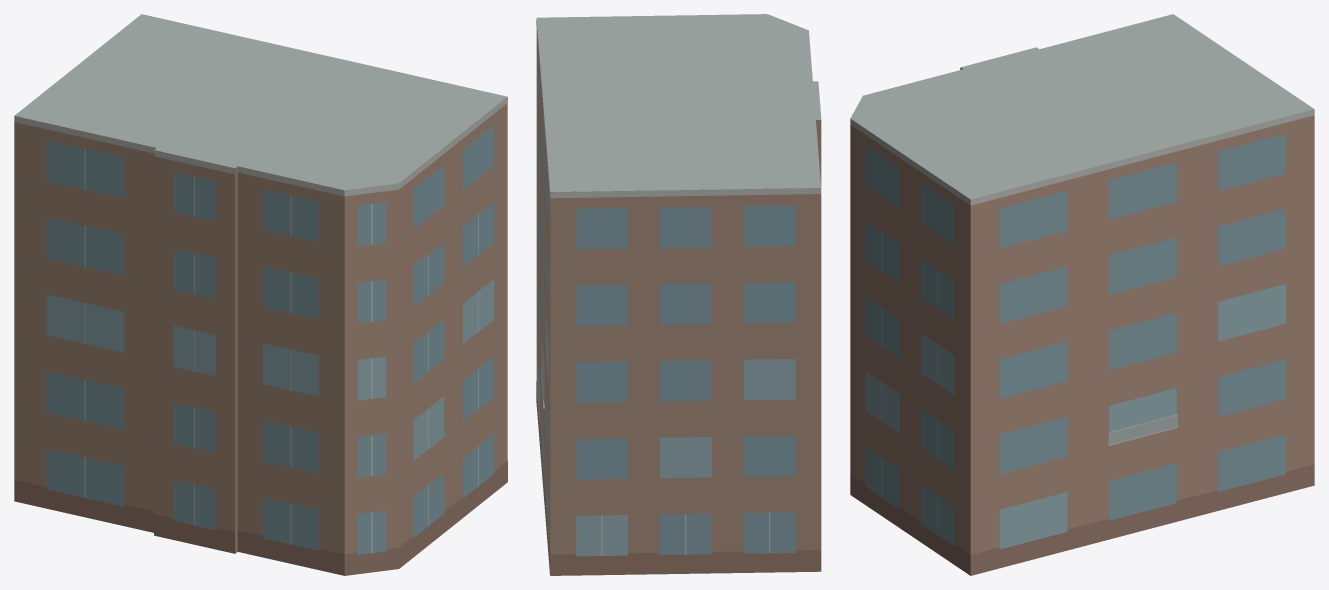
File: survey-upis-32627208.glb
3 renders of one model, left to right at view 1: azimuth 30°, elevation 25°; view 2: azimuth 150°, elevation 25°; view 3: azimuth 270°, elevation 25°, orthographic. The views are drawn at different scales.
Visible parts, largest first — view 1: survey-upis-32627208.tmp; view 2: survey-upis-32627208.tmp; view 3: survey-upis-32627208.tmp.
Boxes of the visible parts, <box> form: survey-upis-32627208.tmp: <box>14,14,507,575</box>; survey-upis-32627208.tmp: <box>536,14,821,575</box>; survey-upis-32627208.tmp: <box>850,14,1314,575</box>.
Bounding box in the file's own units: 16.2 × 15.3 × 17.12.
